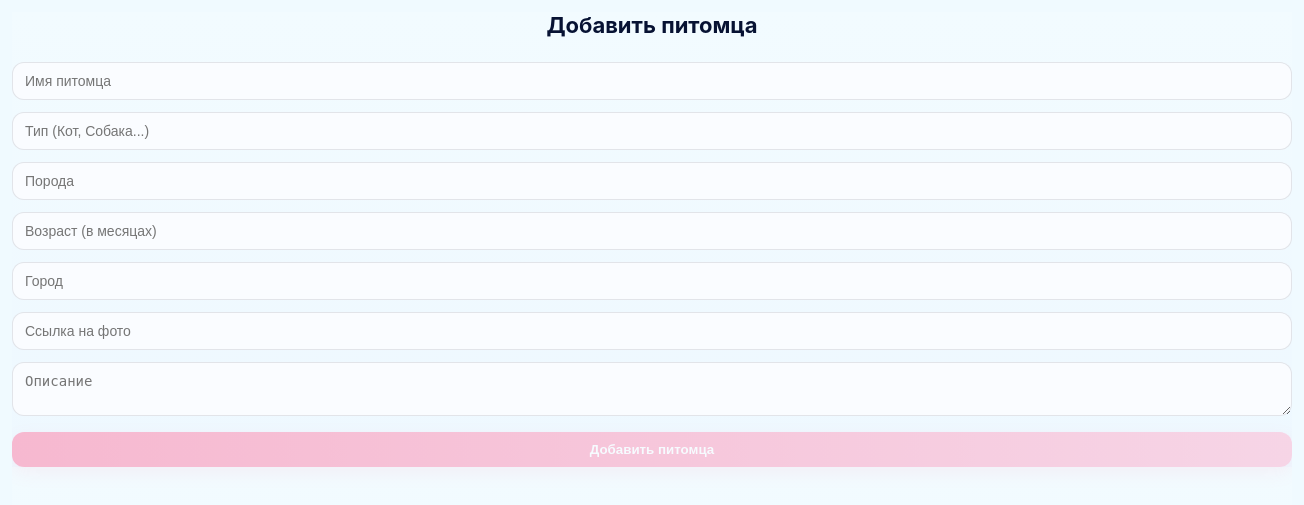
Test: AddPetForm › shows error message when URL is invalid
In the field with placeholder "Ссылка на фото": (652, 331) [12, 312, 1292, 350], type "not-a-url"
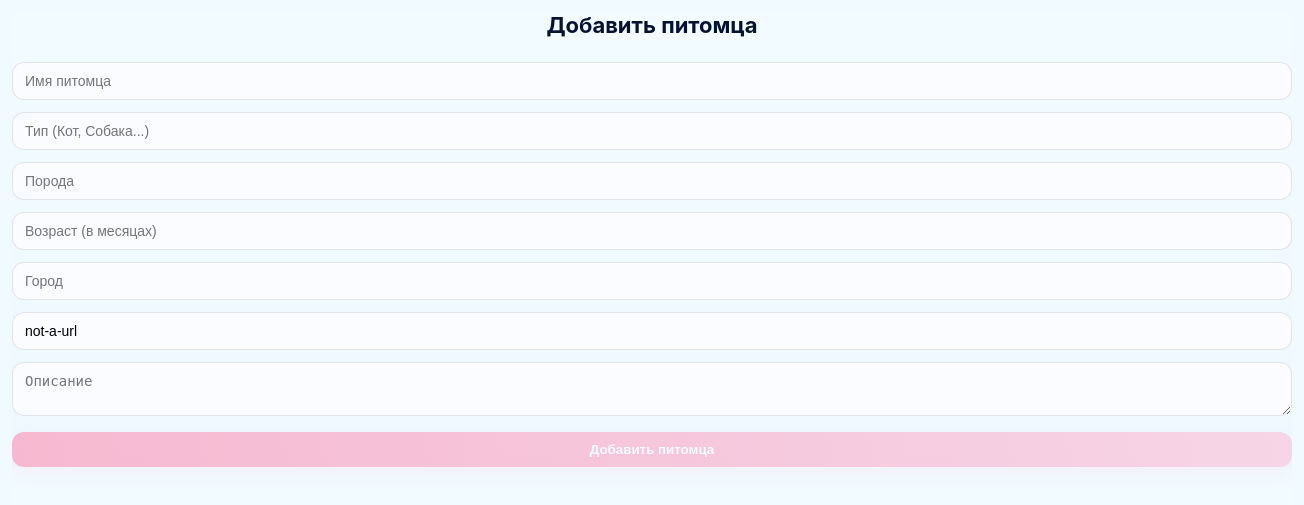
Leave the 5th field, box [12, 312, 1292, 350]
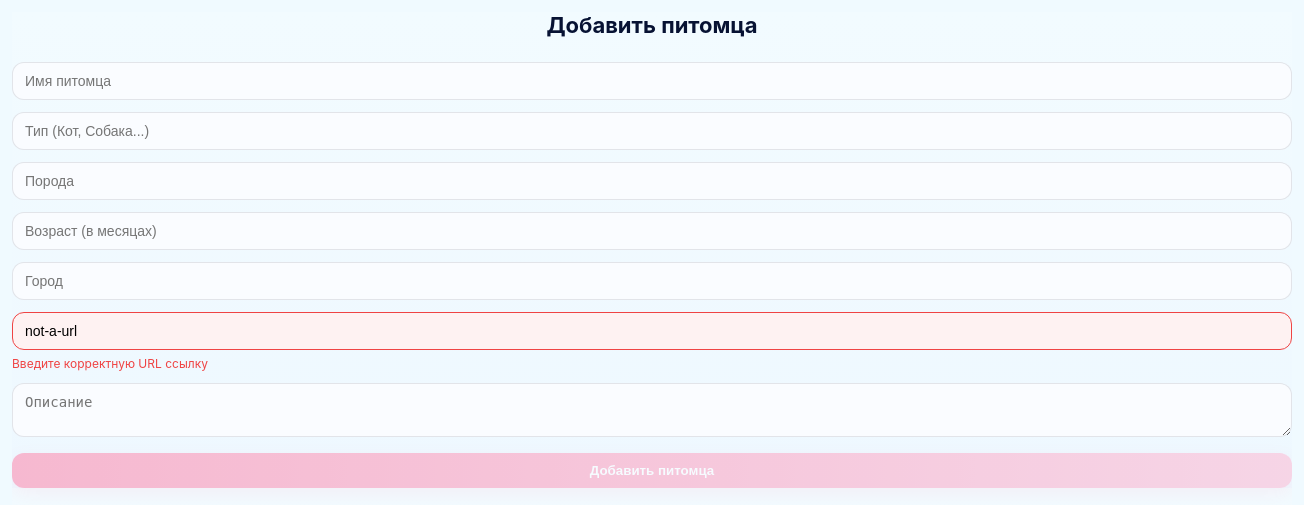
Expected: the text "Введите корректную URL ссылку" is shown, [12, 356, 208, 371]
